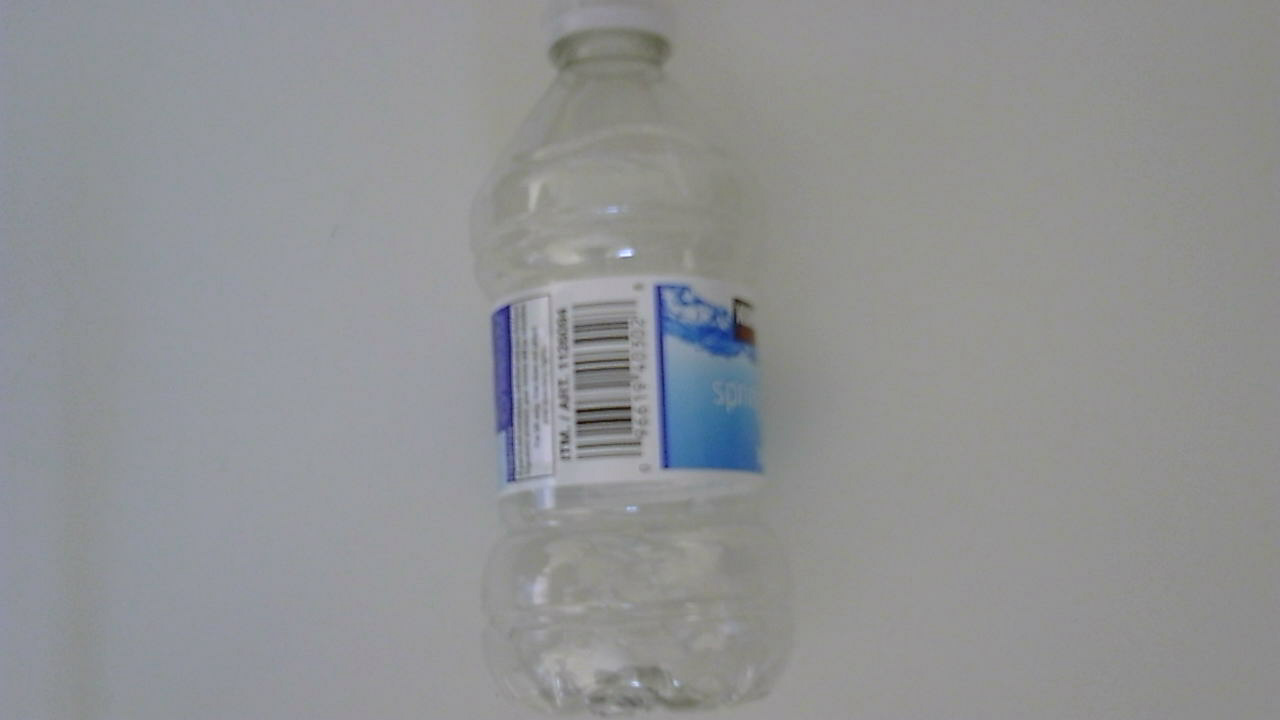Plastic Bottle: (464, 6, 809, 720)
